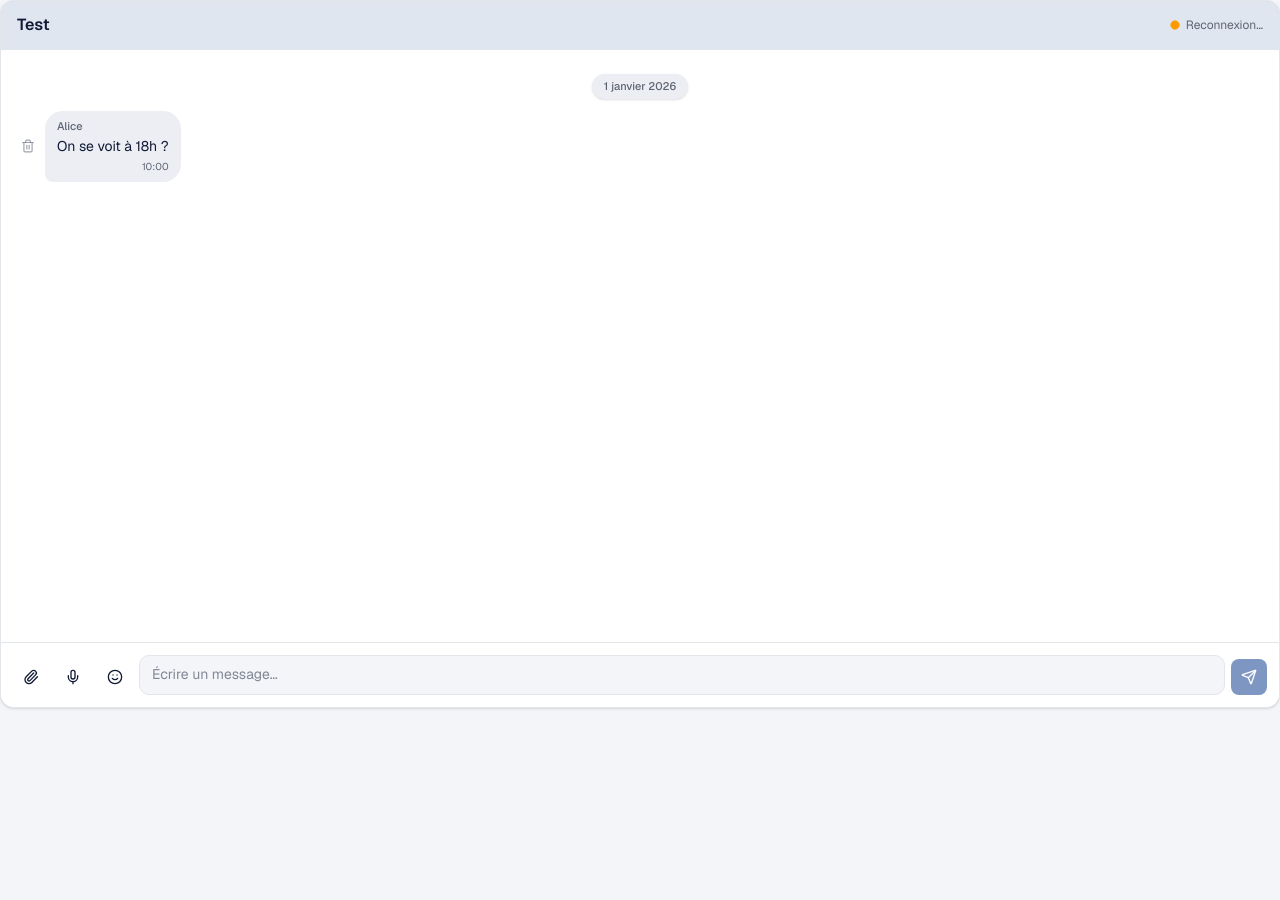
ChatConversation — réactions emoji › shows the six emojis in Actions du message after a long-press/context menu
Right-click the text "On se voit à 18h ?".
right_click(99, 146)  # box [17,110,181,182]
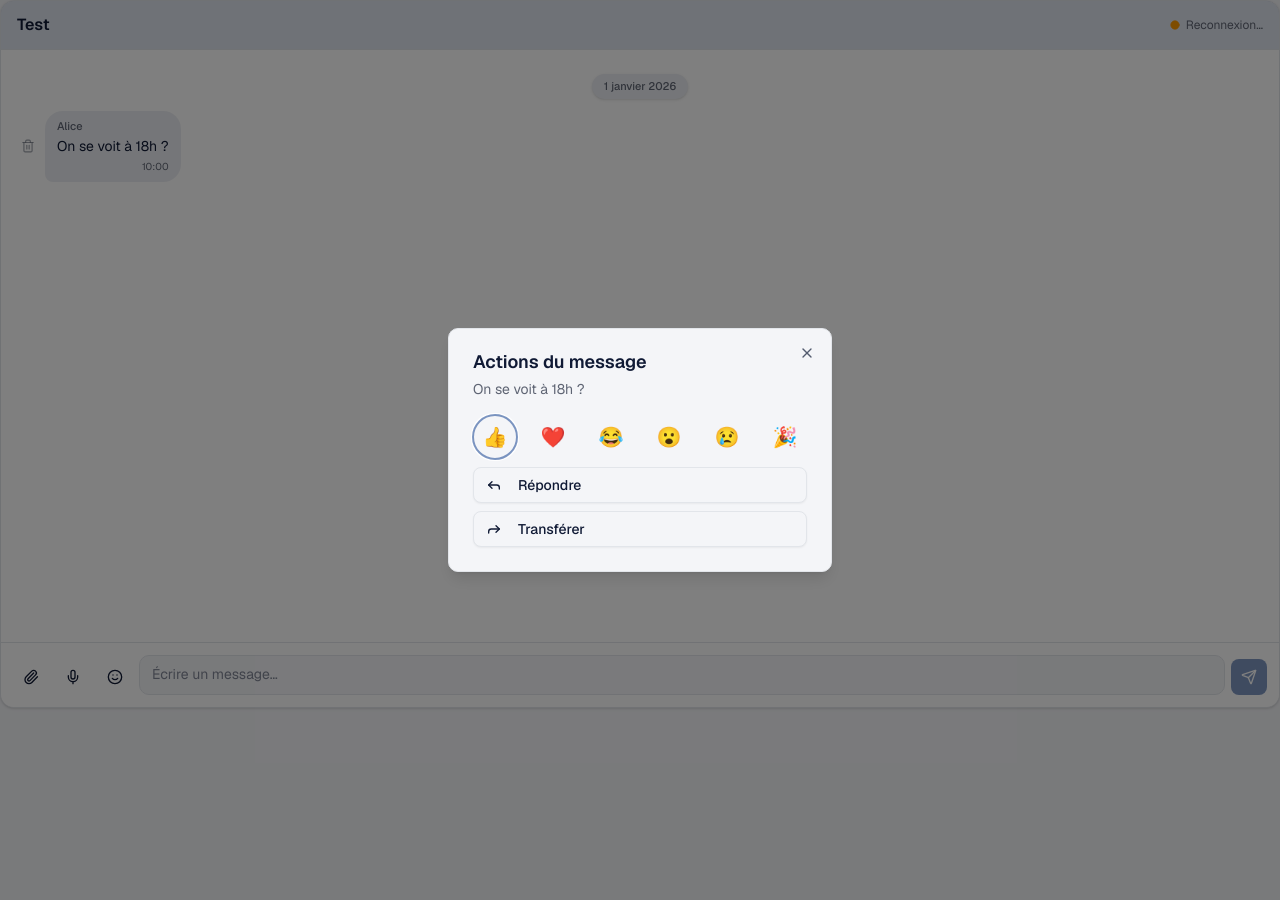
expect the heading "Actions du message" is shown: met, box [473,350,647,373]
expect the button named "Réagir avec 👍" is shown: met, box [473,415,517,459]
expect the button named "Réagir avec 😂" is shown: met
Click the button named "Réagir avec 😂".
click(611, 437)  # box [589,415,633,459]
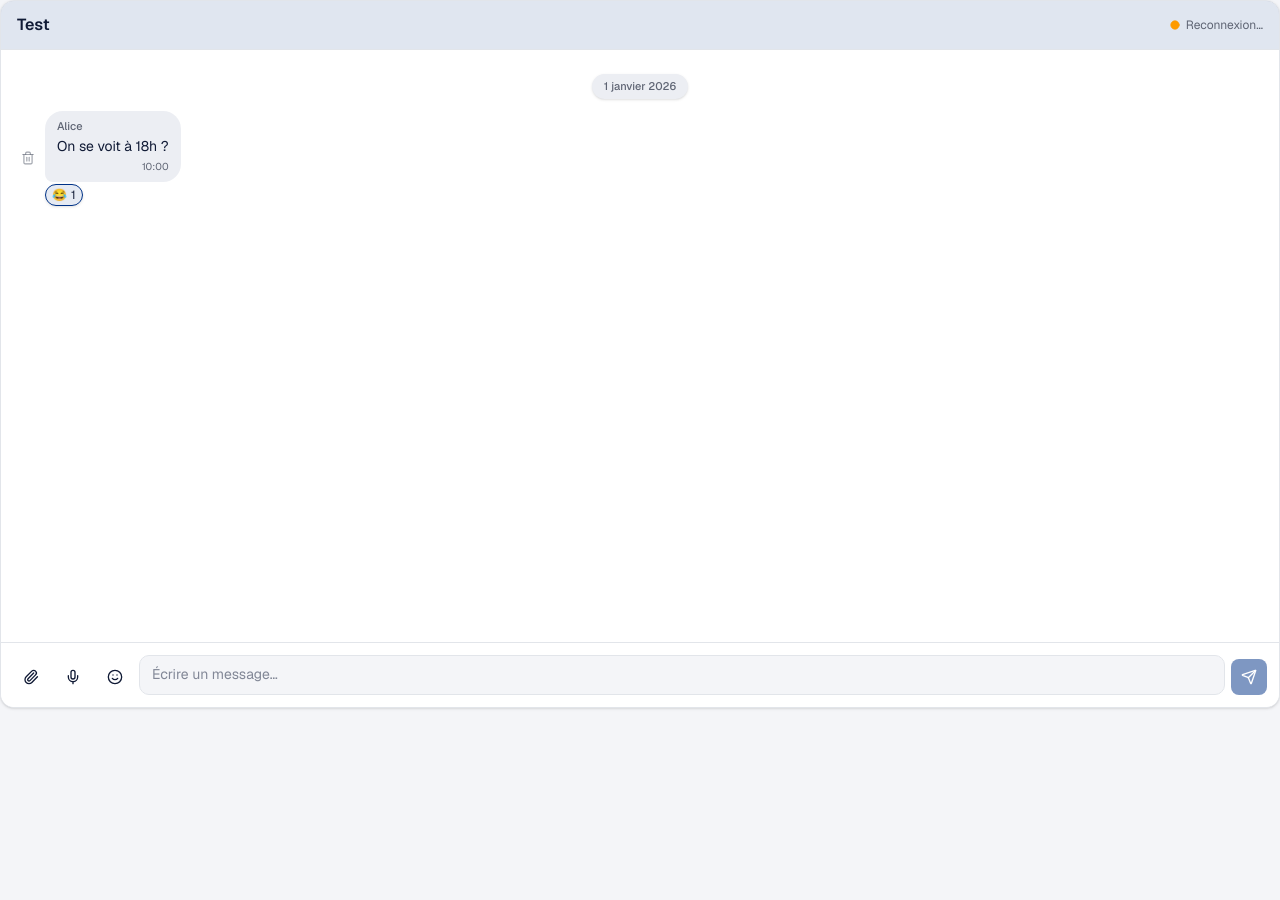
expect the heading "Actions du message" is gone: met
